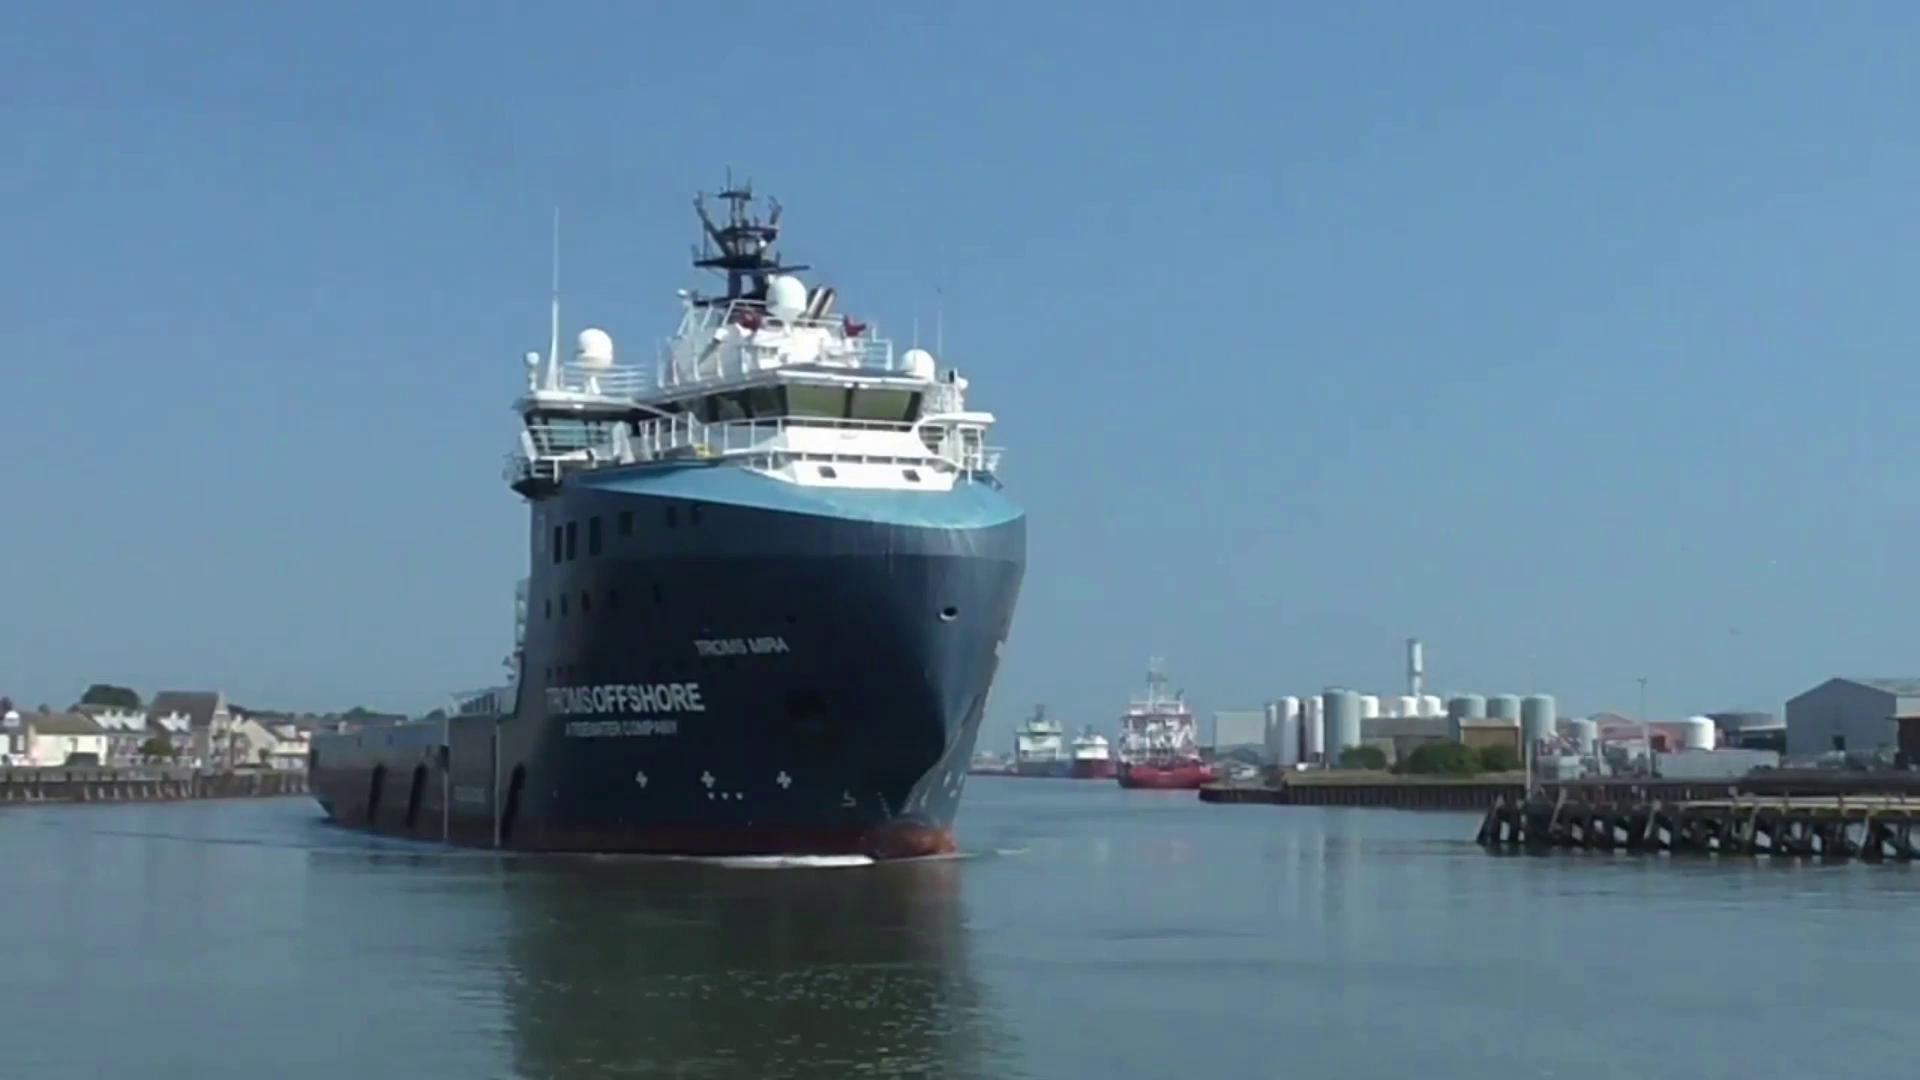OCR: (539, 666, 715, 725)
